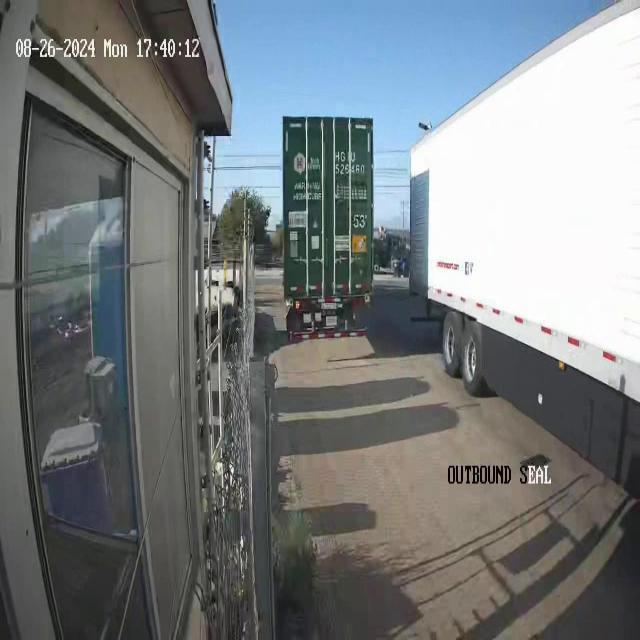TRUCK_IN: (406, 0, 640, 514)
TRUCK_OUT: (276, 99, 379, 348)
